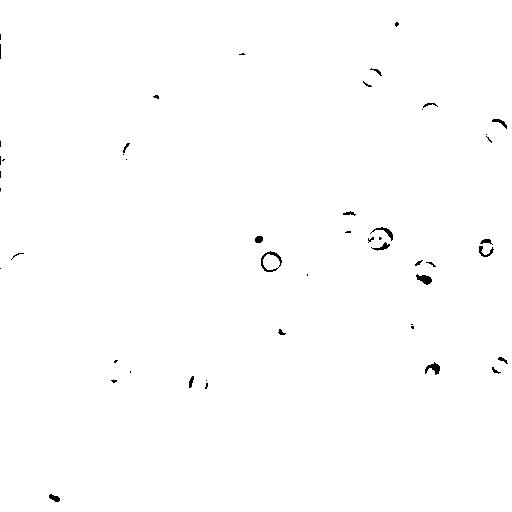micro-algae: (348, 240, 438, 320), (1, 366, 57, 441), (102, 360, 148, 405), (179, 1, 259, 26), (471, 199, 510, 234), (267, 310, 304, 344), (120, 42, 156, 76), (36, 482, 76, 511), (28, 350, 62, 381), (407, 265, 440, 296), (380, 8, 411, 35), (482, 116, 509, 145), (103, 351, 130, 378), (412, 257, 440, 283), (122, 138, 146, 168), (335, 211, 366, 233), (243, 226, 271, 250), (187, 370, 210, 399), (367, 227, 393, 252), (391, 309, 416, 335), (8, 251, 33, 276), (231, 52, 256, 77), (418, 99, 443, 124), (259, 251, 284, 274), (1, 144, 19, 172), (362, 67, 385, 87), (122, 237, 146, 255), (423, 361, 443, 381), (476, 239, 495, 259), (490, 356, 509, 374), (1, 34, 15, 58), (148, 0, 169, 6)
